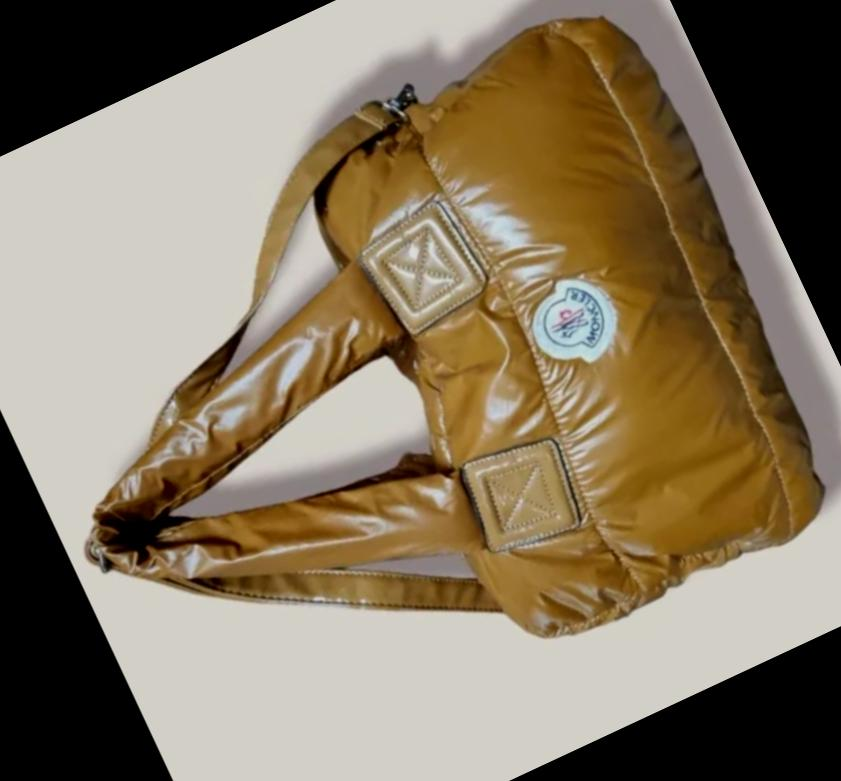MONCLER: (514, 264, 628, 380)
